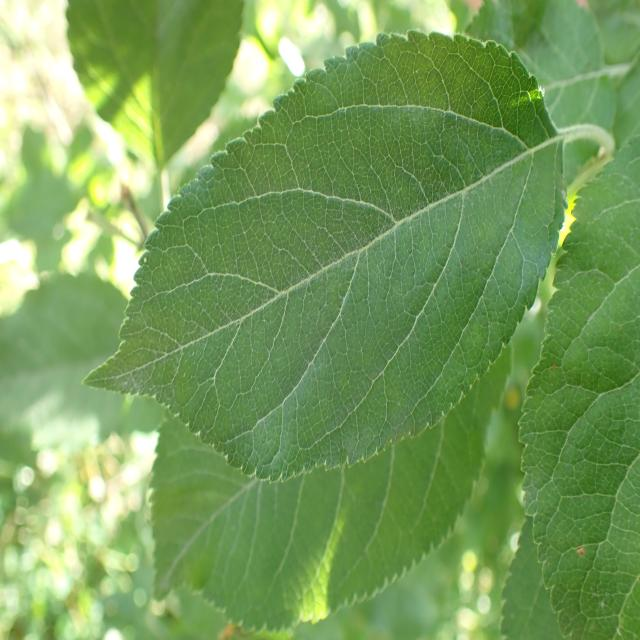healthy: (82, 28, 569, 471), (145, 353, 496, 639), (515, 132, 640, 640)
